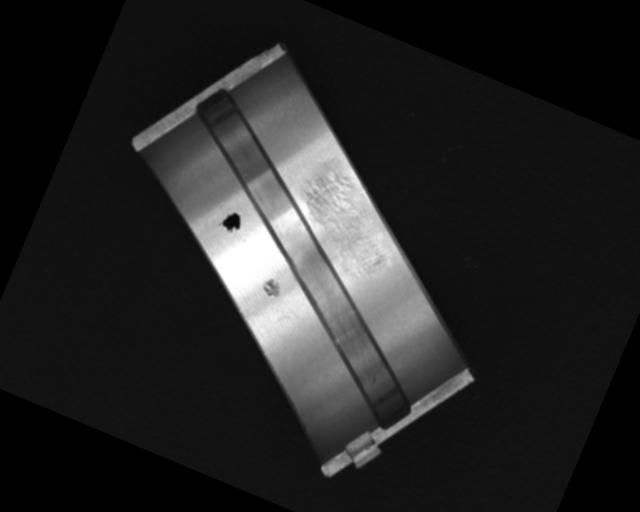blot: (215, 207, 245, 238)
bruise: (257, 275, 284, 302)
gap: (117, 85, 495, 433)
scratch: (279, 164, 410, 287)
